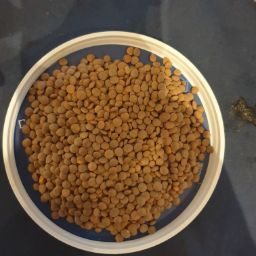Black Lentil(masoor daal): (35, 44, 214, 236), (102, 65, 172, 230), (27, 85, 86, 229)
